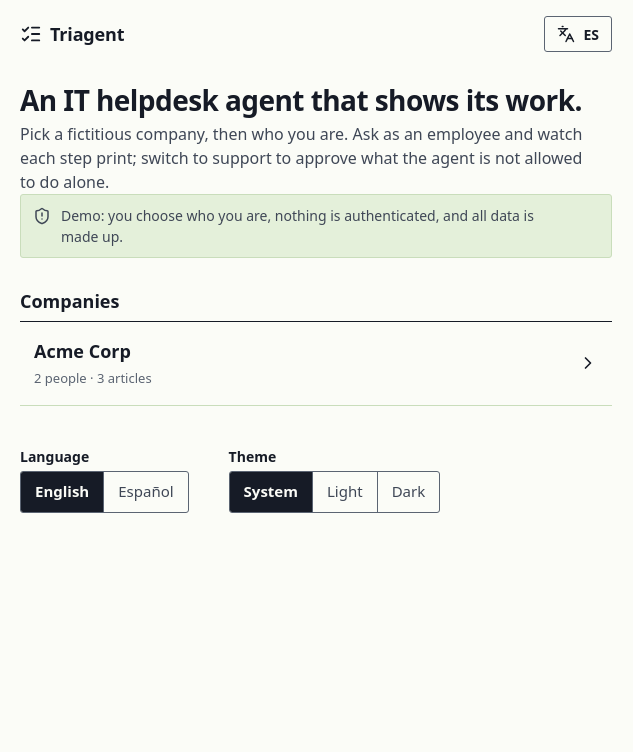
it: EntryPage › stays on the entry screen and says why when the server refuses to start a session
What coordinates should you click on to do the following:
click the button with aria-label "choose acme corp"
I would click on:
 (82, 351)
Its box is [20, 322, 612, 405].
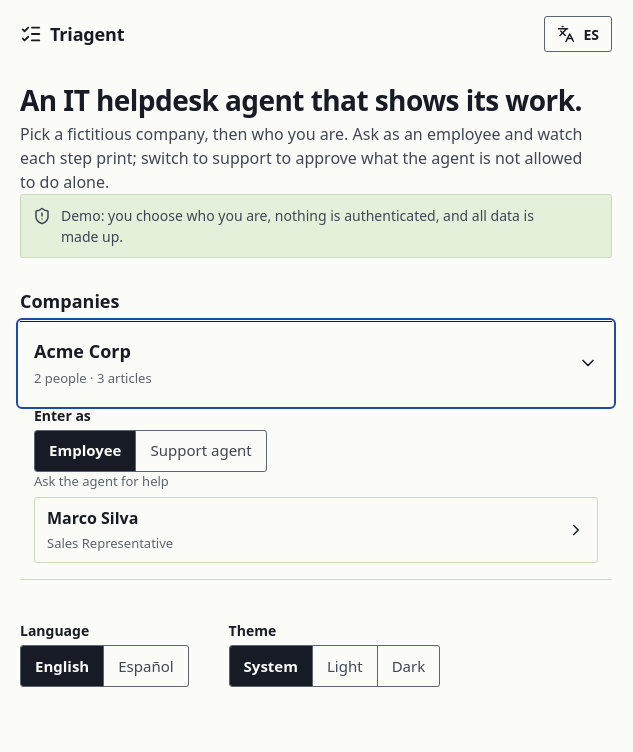
What coordinates should you click on to do the following:
click the text "Marco Silva"
I would click on:
 (93, 518)
Its box is [47, 507, 138, 529].
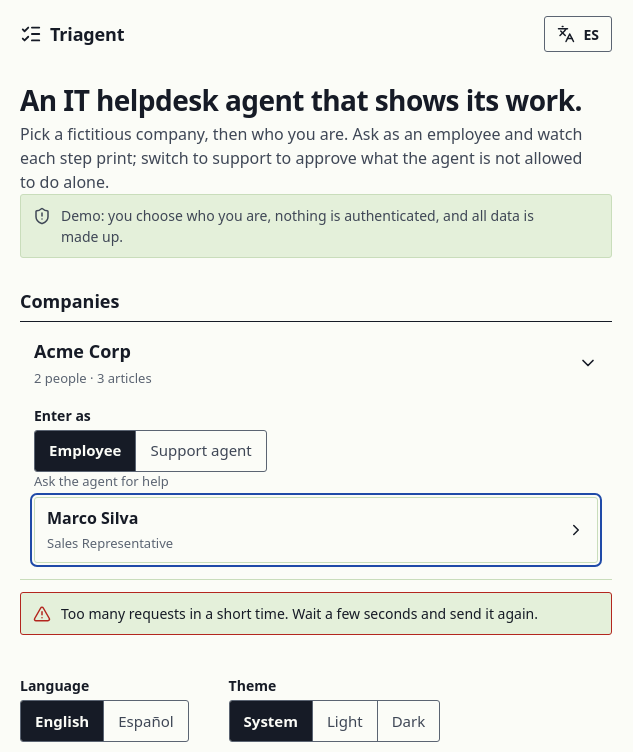
Now the message shows "Too many requests", box [61, 604, 538, 623]
